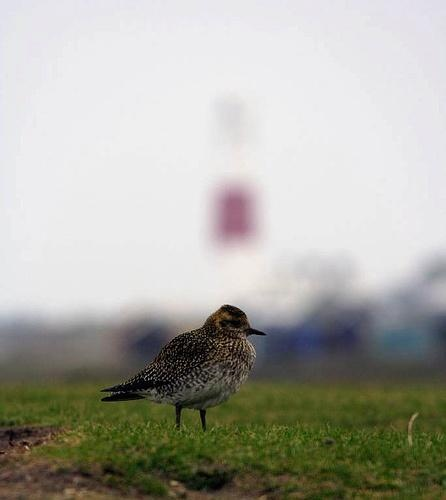bird: (97, 302, 272, 433)
